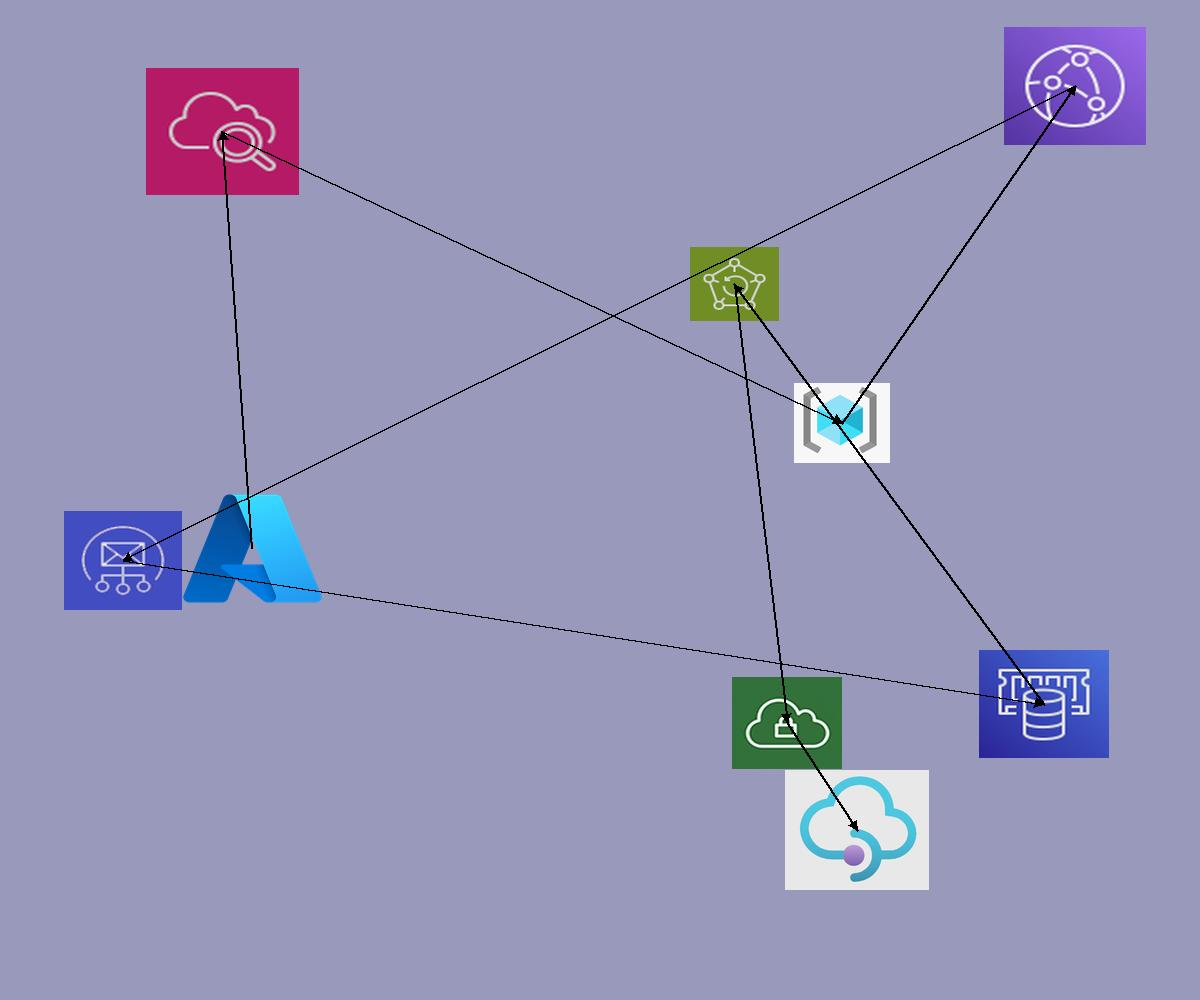AWS-Backup: (690, 247, 779, 321)
AWS-CloudFront: (1004, 27, 1146, 145)
AWS-CloudWatch: (146, 68, 299, 195)
AWS-ElastiCache: (979, 650, 1109, 758)
AWS-Private_vpc: (732, 677, 842, 769)
AWS-Simple-Email-Service: (64, 511, 182, 610)
Azure_api_gateway: (785, 770, 929, 890)
Azure_resource_group: (794, 383, 890, 463)
Azure_services: (177, 486, 328, 611)
